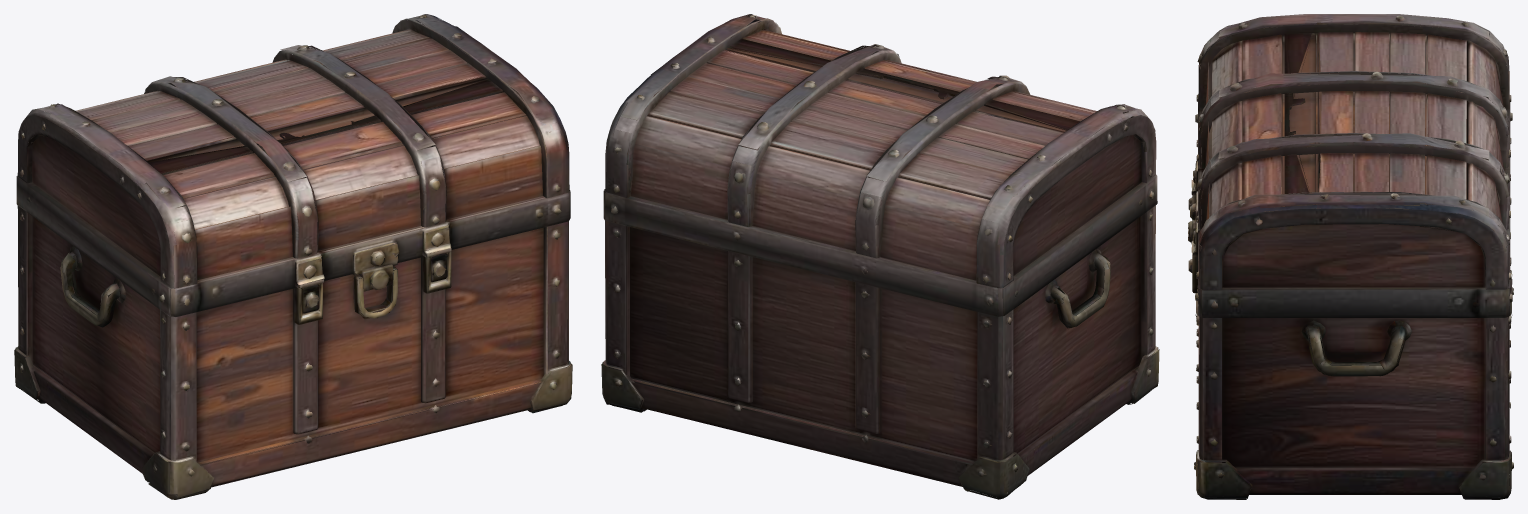
The model's file is chest.glb.
3 renders of one model, left to right at view 1: azimuth 30°, elevation 25°; view 2: azimuth 150°, elevation 25°; view 3: azimuth 270°, elevation 25°, orthographic.
Parts seen in each view (by area): view 1: tripo_node_c5194f82; view 2: tripo_node_c5194f82; view 3: tripo_node_c5194f82.
Part boxes in pixels (x1=…): tripo_node_c5194f82: x1=14, y1=14, x2=572, y2=499; tripo_node_c5194f82: x1=601, y1=14, x2=1159, y2=499; tripo_node_c5194f82: x1=1188, y1=14, x2=1513, y2=499.
Bounding box in the file's own units: 1.45 × 1 × 0.9795.
1 material, 1 textured.
